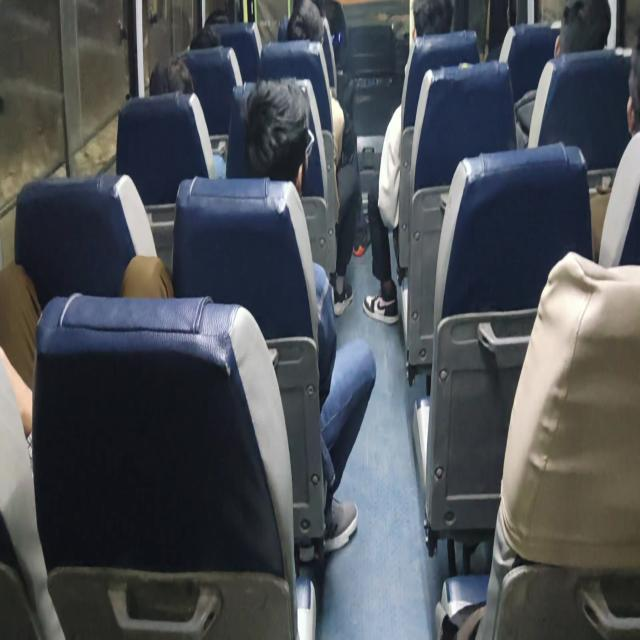person: (239, 89, 316, 174), (545, 6, 613, 50), (146, 52, 195, 112), (610, 44, 640, 135), (406, 5, 460, 54), (279, 0, 325, 49), (192, 36, 228, 71), (200, 0, 242, 27)
